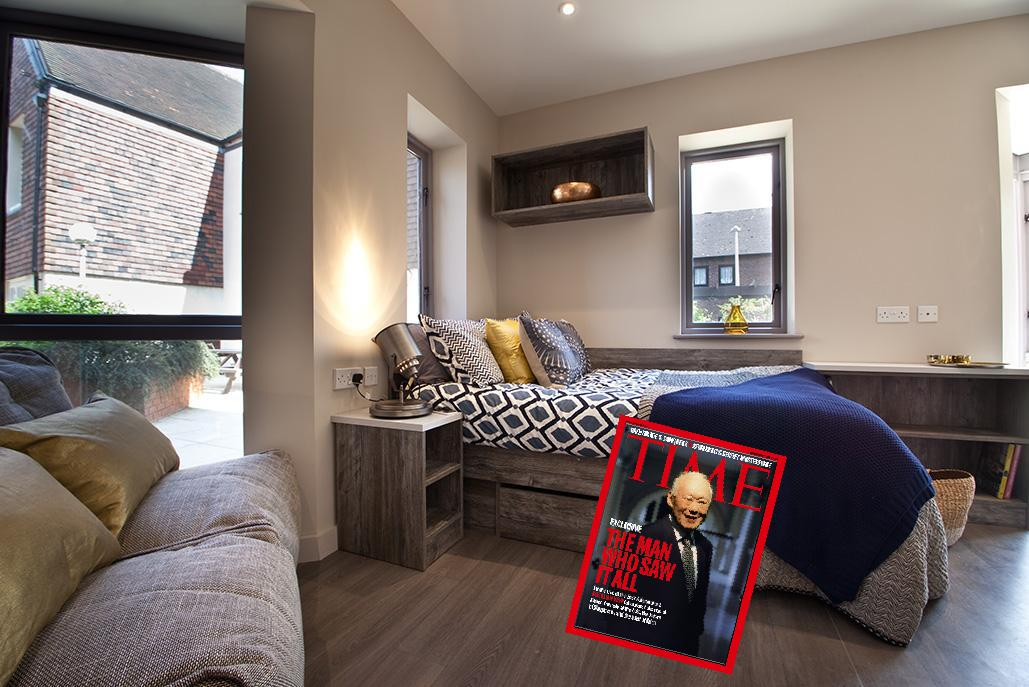times: (559, 410, 787, 681)
